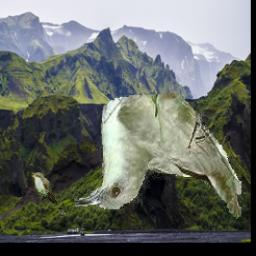Cuckoo: (73, 87, 240, 221), (31, 173, 67, 216)
